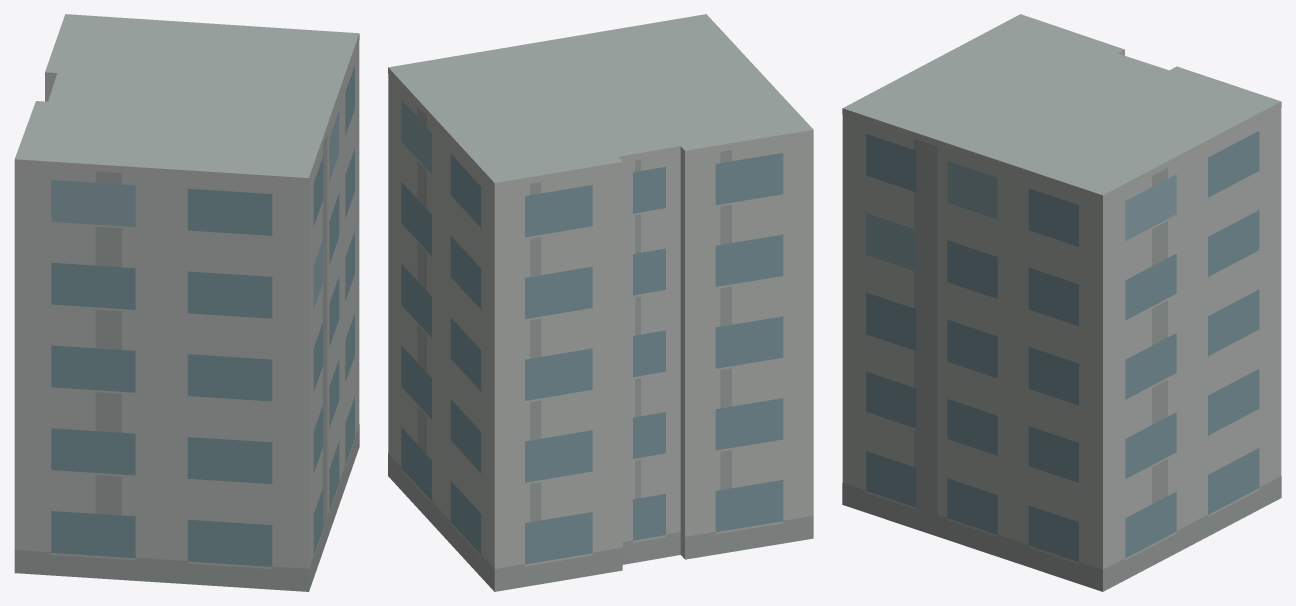
Rendered from survey-upis-33043516.glb.
3 renders of one model, left to right at view 1: azimuth 30°, elevation 25°; view 2: azimuth 150°, elevation 25°; view 3: azimuth 270°, elevation 25°, orthographic. The views are drawn at different scales.
Visible parts, largest first — view 1: survey-upis-33043516.tmp; view 2: survey-upis-33043516.tmp; view 3: survey-upis-33043516.tmp.
Boxes of the visible parts, box(x1,y1,x2,y2) form: survey-upis-33043516.tmp: box(14, 14, 359, 591); survey-upis-33043516.tmp: box(388, 14, 813, 591); survey-upis-33043516.tmp: box(842, 14, 1281, 591).
Bounding box in the file's own units: 14.52 × 14.8 × 14.85.
